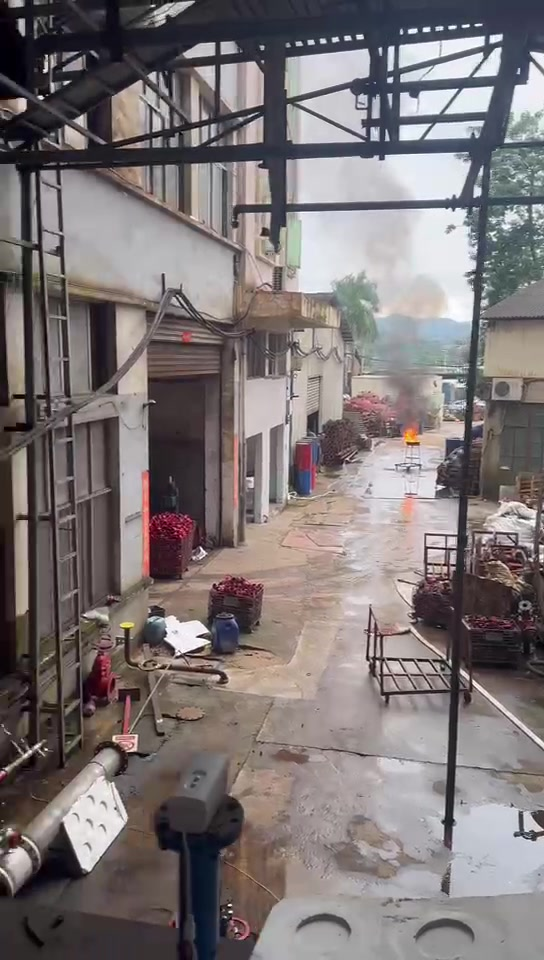fire: (403, 425, 419, 441)
